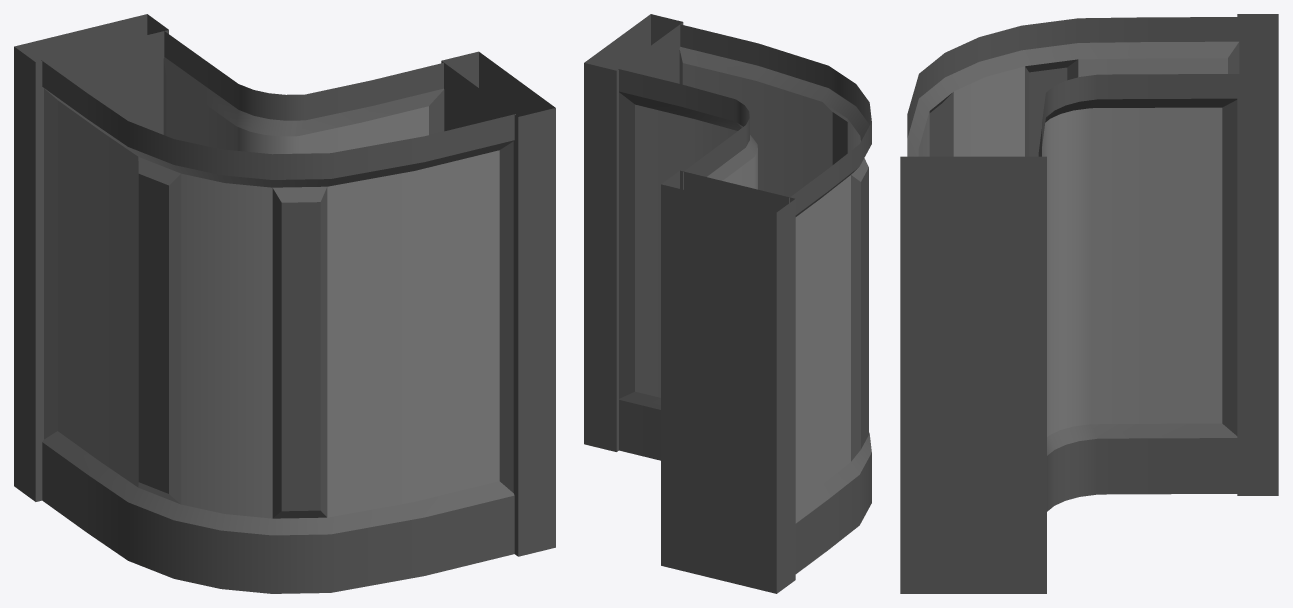
Rendered from Metal_Barrier_Wall_Corner.fbx.
3 views of the same model, side by side, from view 1: azimuth 30°, elevation 25°; view 2: azimuth 150°, elevation 25°; view 3: azimuth 270°, elevation 25° (orthographic). The views are drawn at different scales.
Parts seen in each view (by area): view 1: Metal_Barrier_Wall_Corner; view 2: Metal_Barrier_Wall_Corner; view 3: Metal_Barrier_Wall_Corner.
Boxes of the visible parts, box(x1,y1,x2,y2) form: Metal_Barrier_Wall_Corner: box(14, 14, 555, 593); Metal_Barrier_Wall_Corner: box(584, 14, 871, 593); Metal_Barrier_Wall_Corner: box(900, 14, 1278, 593).
Size of the model in its own units: 163 by 200 by 163.
